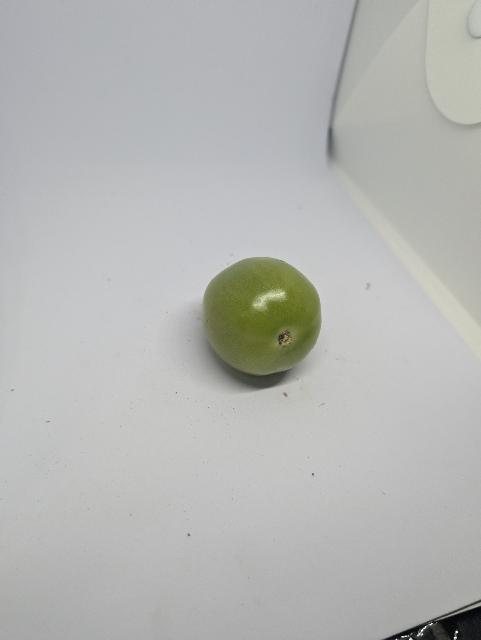green: (200, 255, 325, 377)
